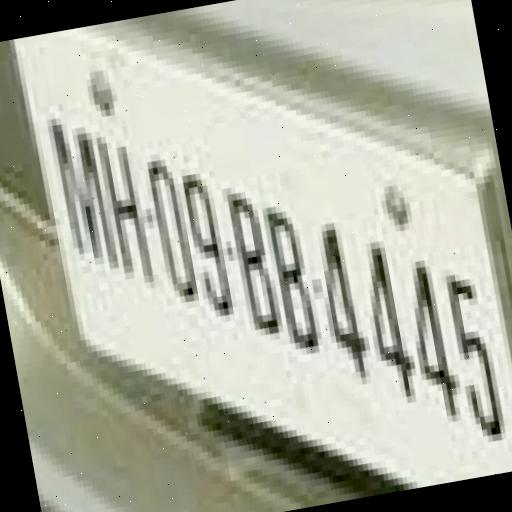number plate: (34, 2, 512, 464)
